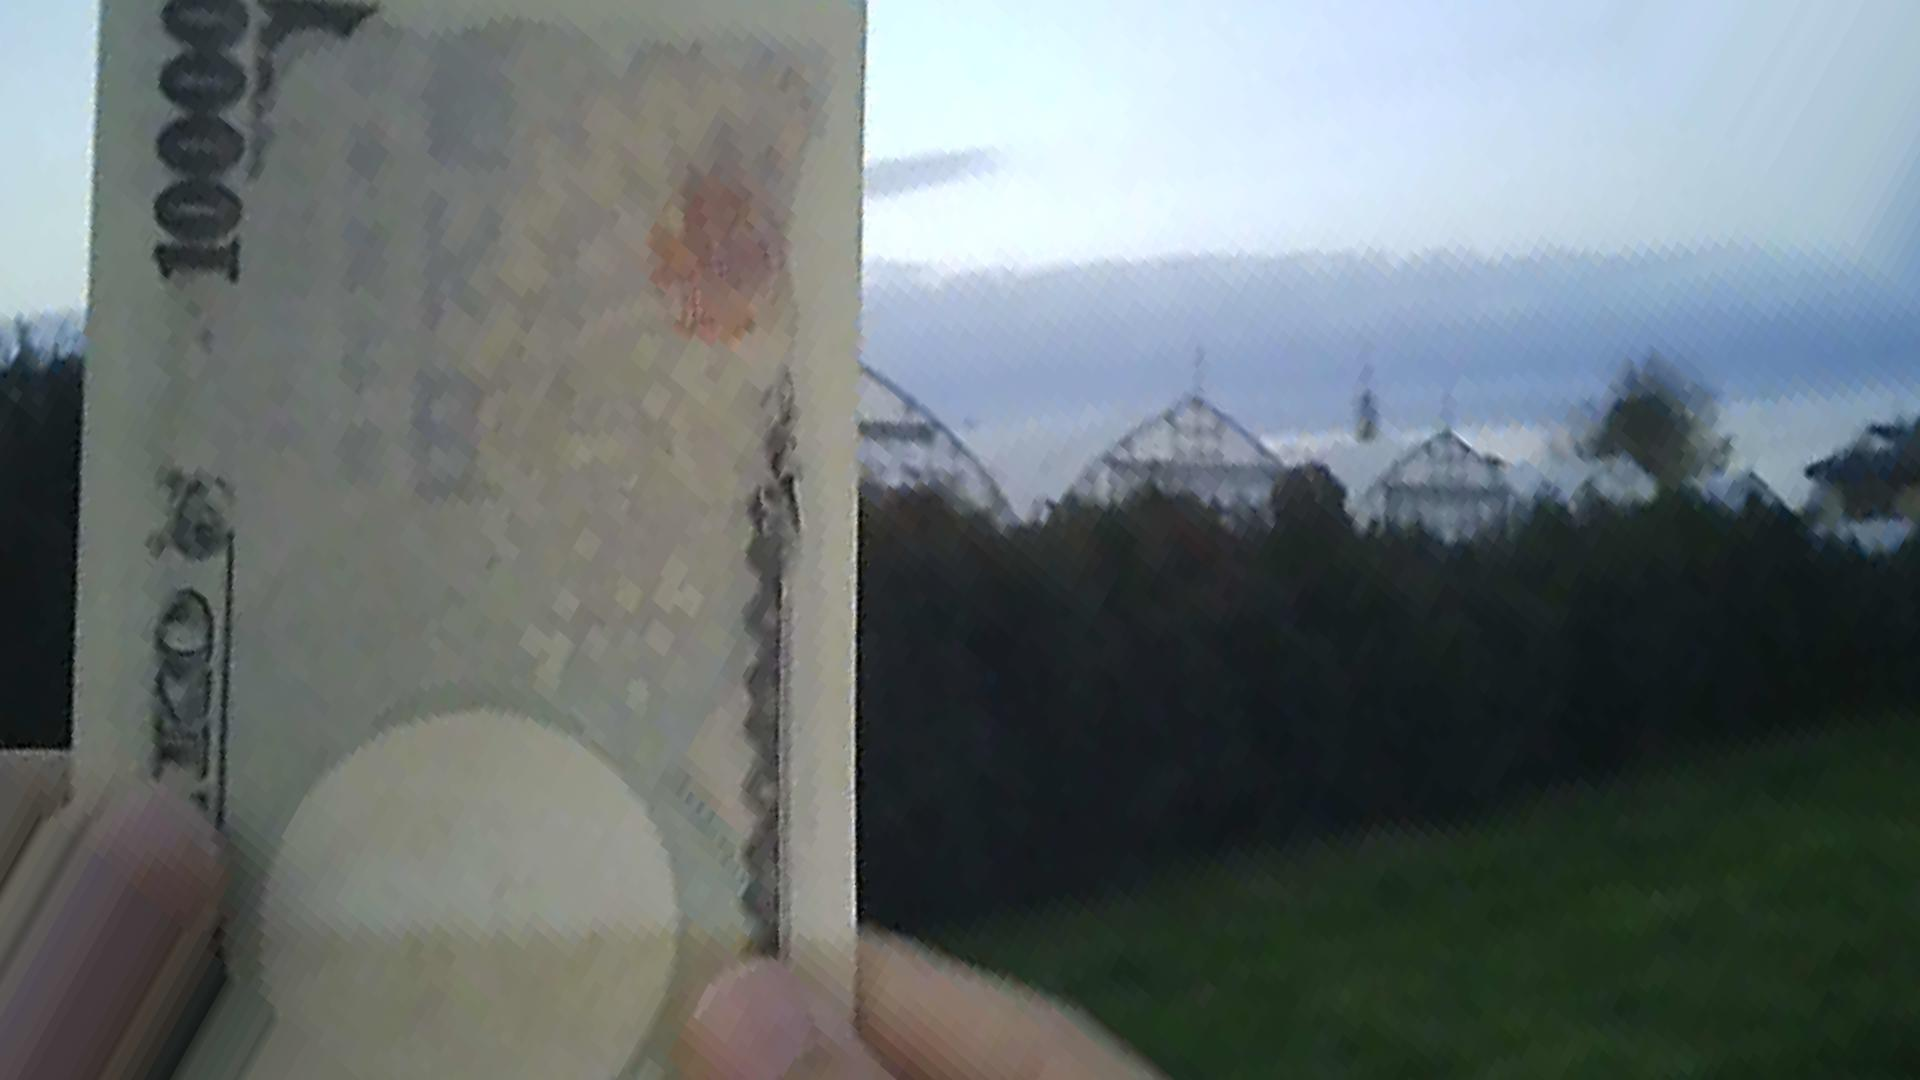10,000 Yen: (65, 13, 915, 944)
